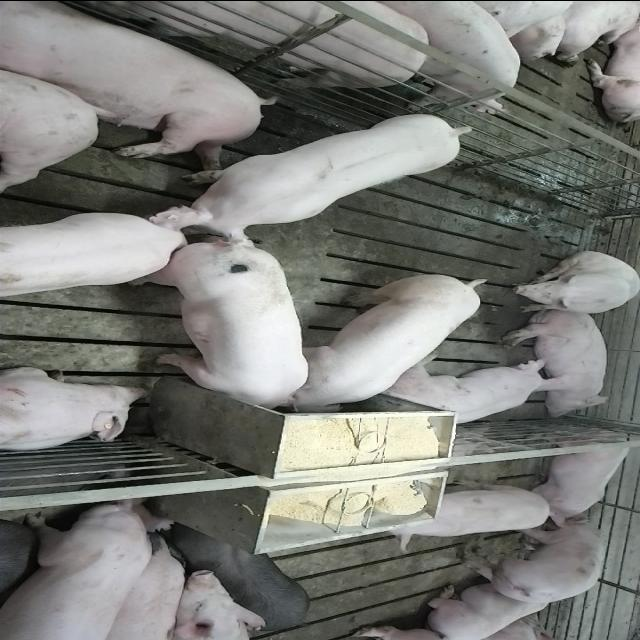Feeding: (279, 268, 496, 411), (138, 244, 310, 418)
Lateral_lying: (0, 4, 276, 169), (500, 307, 612, 417)
Sitting: (520, 422, 640, 520), (503, 250, 638, 314)
Standing: (160, 112, 484, 246), (9, 0, 437, 90), (0, 498, 168, 638), (455, 516, 611, 632), (0, 210, 185, 302), (164, 520, 310, 634), (384, 0, 527, 110), (378, 482, 562, 546), (92, 528, 190, 637)
Sternal_lying: (0, 366, 150, 454), (382, 360, 561, 430), (428, 574, 565, 639)
